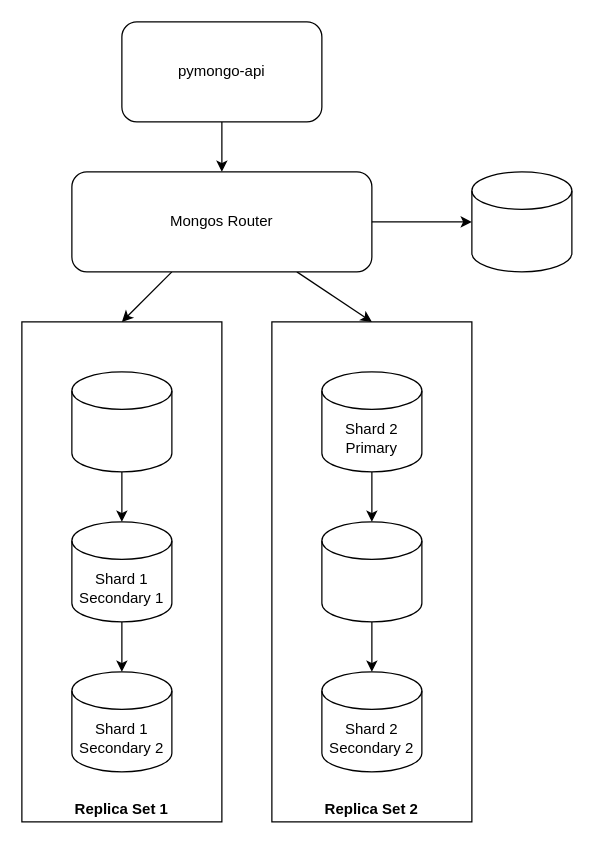
Some shapes in this 594 by 844 pixel diagram are drawn without their labels. The centre of each missing label's shape, as x and y in pixels:
Config Server: the point at 521,221
Shard 1 Primary: the point at 121,421
Shard 2 Secondary 1: the point at 371,571
